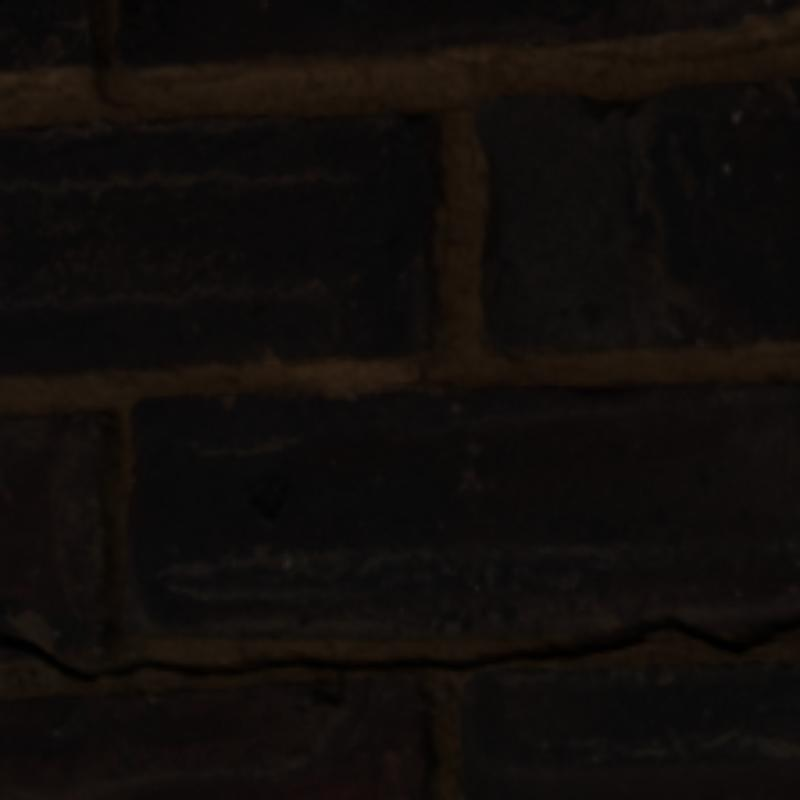pothole: (0, 614, 796, 679)
